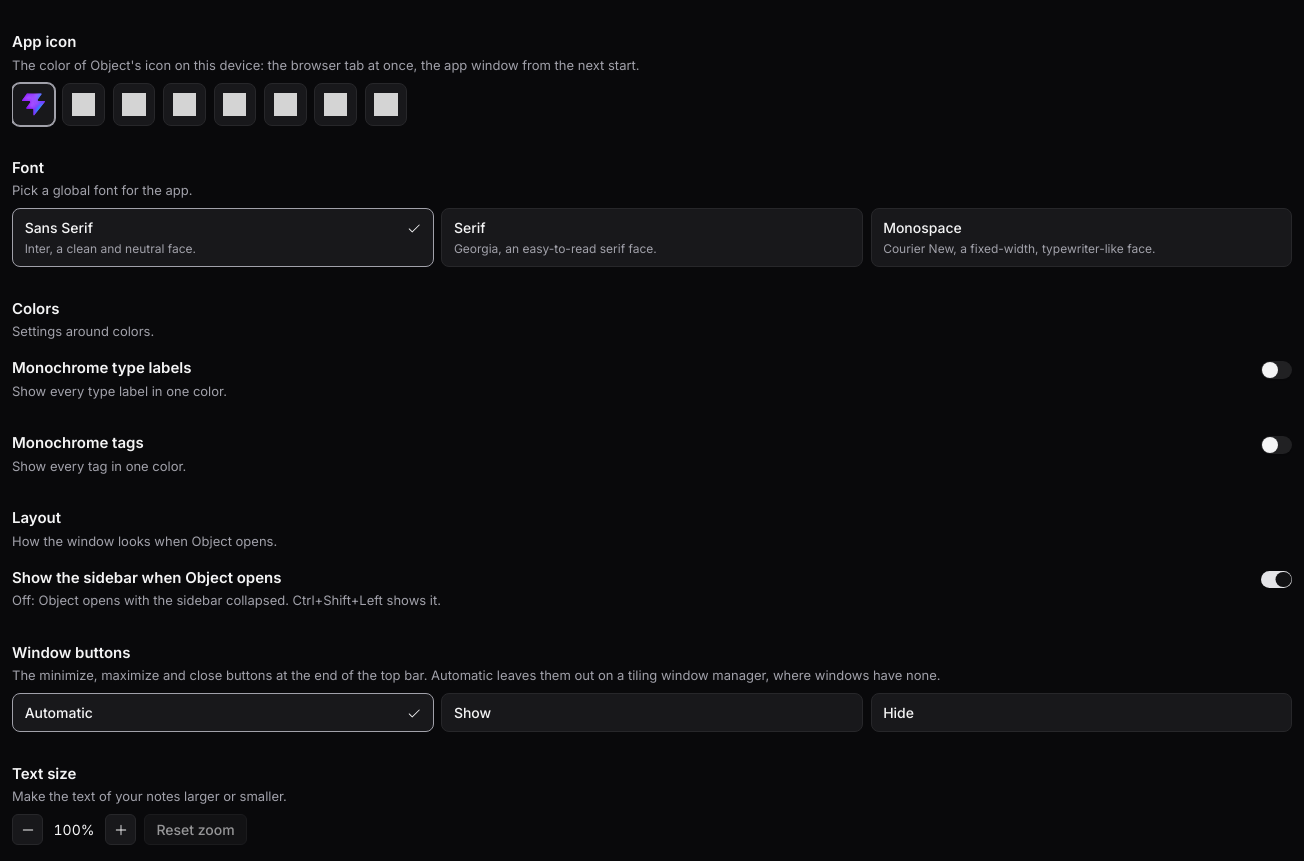
Test case: AppearanceSection: Window buttons › test in the desktop window on Linux: Automatic, Show, Hide; a change is stored and the buttons go and come at once
This screenshot has width=1304, height=861.
Later steps or results of the test are not shown.
(page scrolled)
Expected: the heading "Window buttons" is shown, [12,643,130,662]
Click the radio button labelled "Hide".
click(899, 712)  # box [870,693,1292,732]
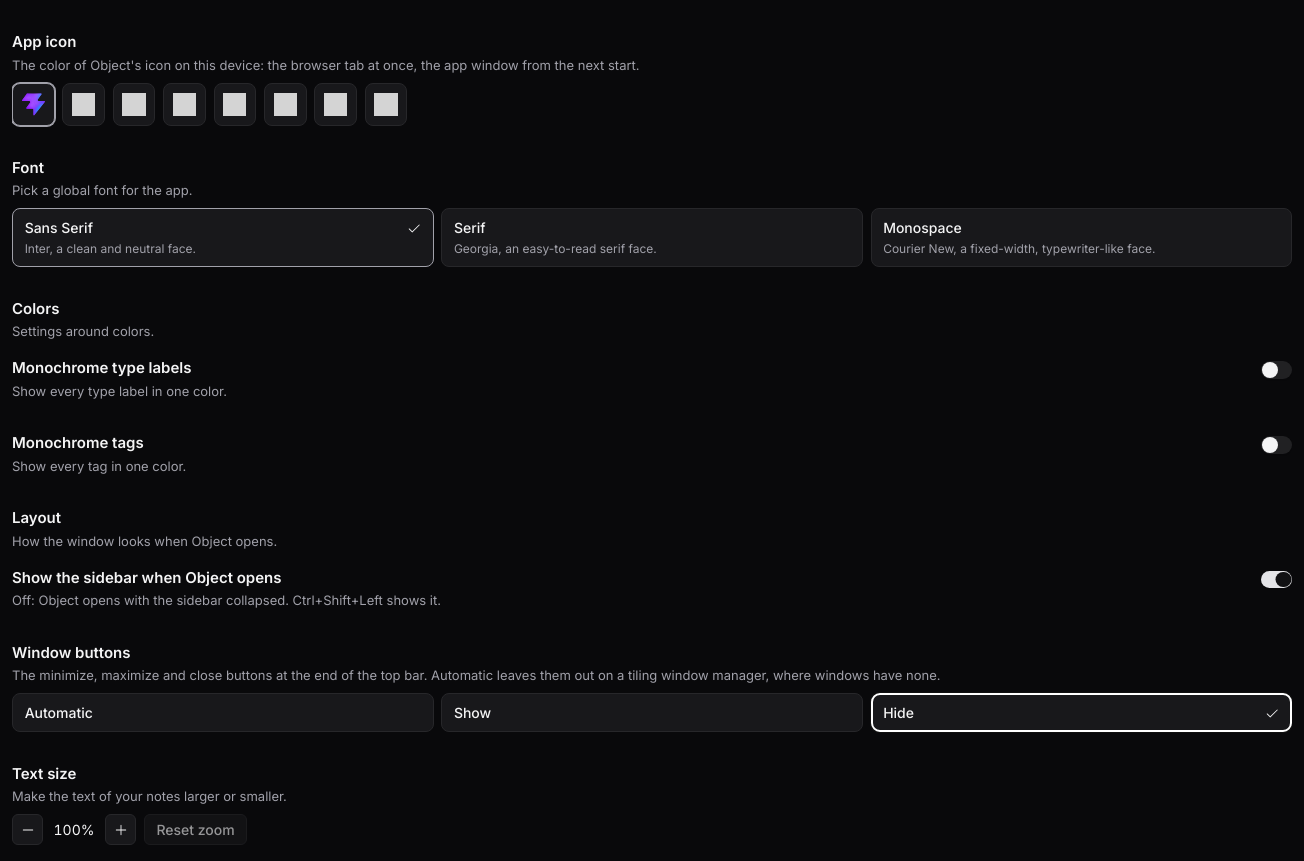
Now the radio button labelled "Hide" is checked, box [870,693,1292,732]
